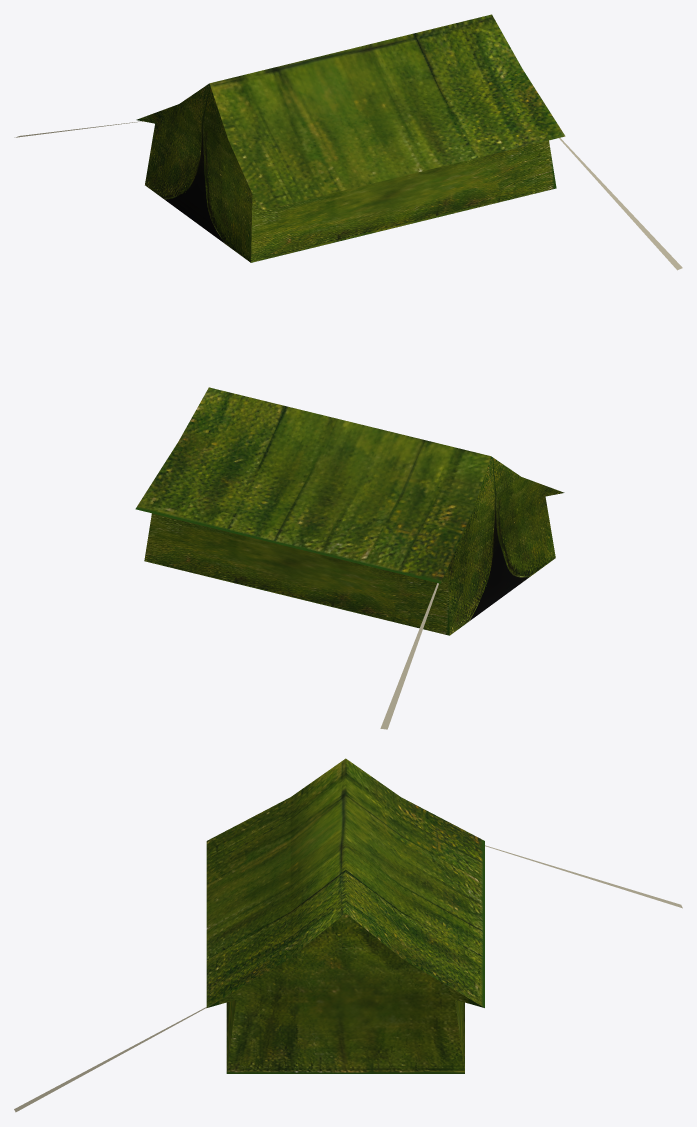
The model's file is tent.gltf.
3 views of the same model, one above another, from view 1: azimuth 30°, elevation 25°; view 2: azimuth 150°, elevation 25°; view 3: azimuth 270°, elevation 25° (orthographic). The views are drawn at different scales.
Parts seen in each view (by area): view 1: tent_atomic2, tent_atomic0; view 2: tent_atomic2, tent_atomic3; view 3: tent_atomic2, tent_atomic0.
Part boxes in pixels (x1,y1,x2,y2): tent_atomic2: [136, 14, 565, 262]; tent_atomic0: [559, 138, 682, 270]; tent_atomic2: [135, 387, 564, 635]; tent_atomic3: [380, 583, 438, 729]; tent_atomic2: [206, 758, 484, 1073]; tent_atomic0: [14, 1007, 206, 1112].
Bounding box in the file's own units: 39.01 × 15.63 × 53.92.
Materials: 2 (1 with a texture image).
